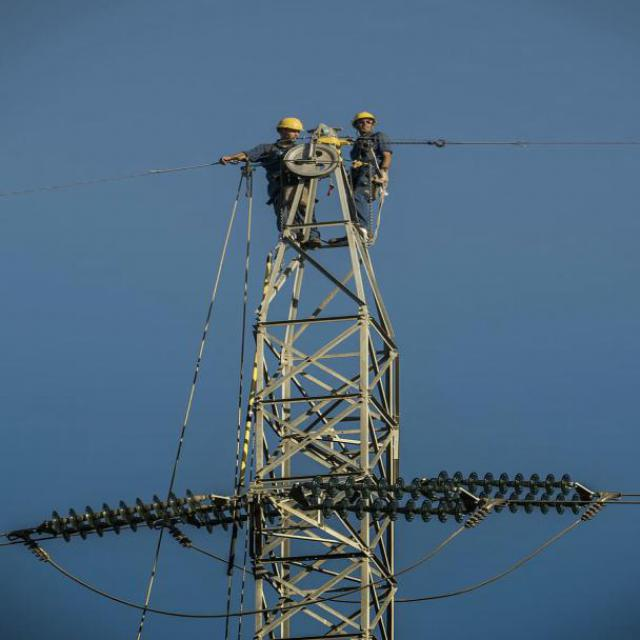gloves: (215, 147, 246, 170), (373, 170, 395, 187)
helmet: (352, 109, 384, 135), (278, 114, 304, 141)
